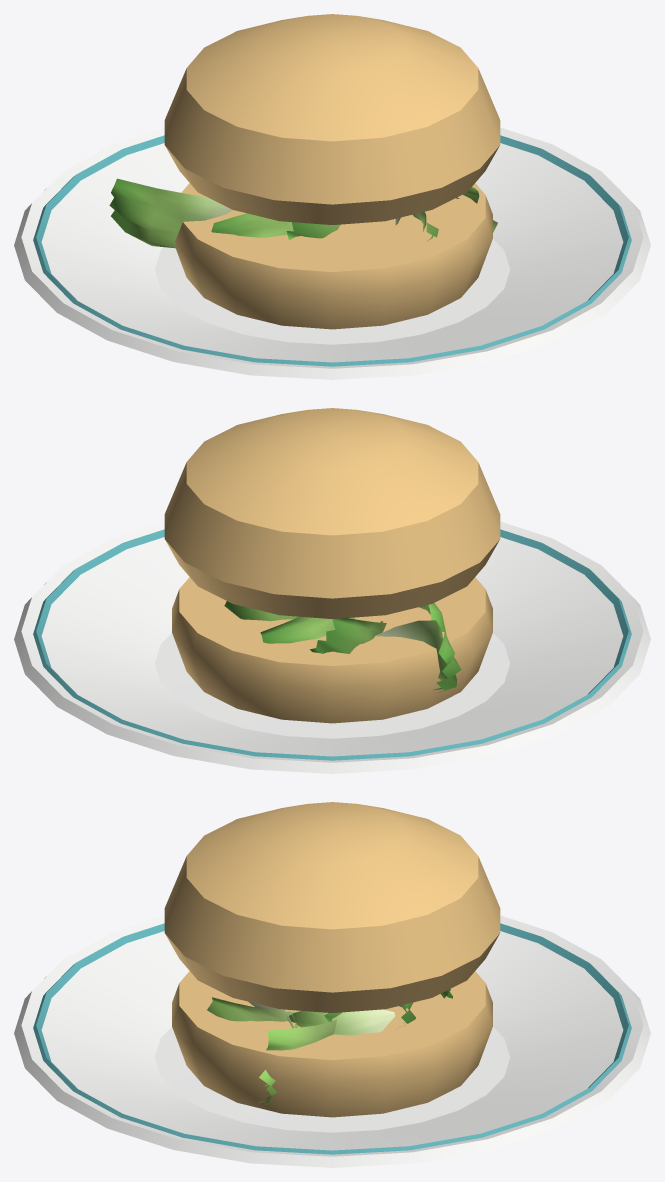
The model's file is kr_p_bun_lettuce.glb.
3 views of the same model, one above another, from view 1: azimuth 30°, elevation 25°; view 2: azimuth 150°, elevation 25°; view 3: azimuth 270°, elevation 25° (orthographic).
Visible parts, largest first — view 1: vc_m0_r4, vc_m0_r2; view 2: vc_m0_r4, vc_m0_r2; view 3: vc_m0_r4, vc_m0_r2.
Part boxes in pixels (bbox=[...]): vc_m0_r4: bbox=[33, 14, 631, 366]; vc_m0_r2: bbox=[14, 127, 650, 379]; vc_m0_r4: bbox=[33, 408, 631, 760]; vc_m0_r2: bbox=[14, 521, 650, 773]; vc_m0_r4: bbox=[33, 802, 631, 1154]; vc_m0_r2: bbox=[14, 915, 650, 1167].
Bounding box in the file's own units: 0.43 × 0.19 × 0.43.
